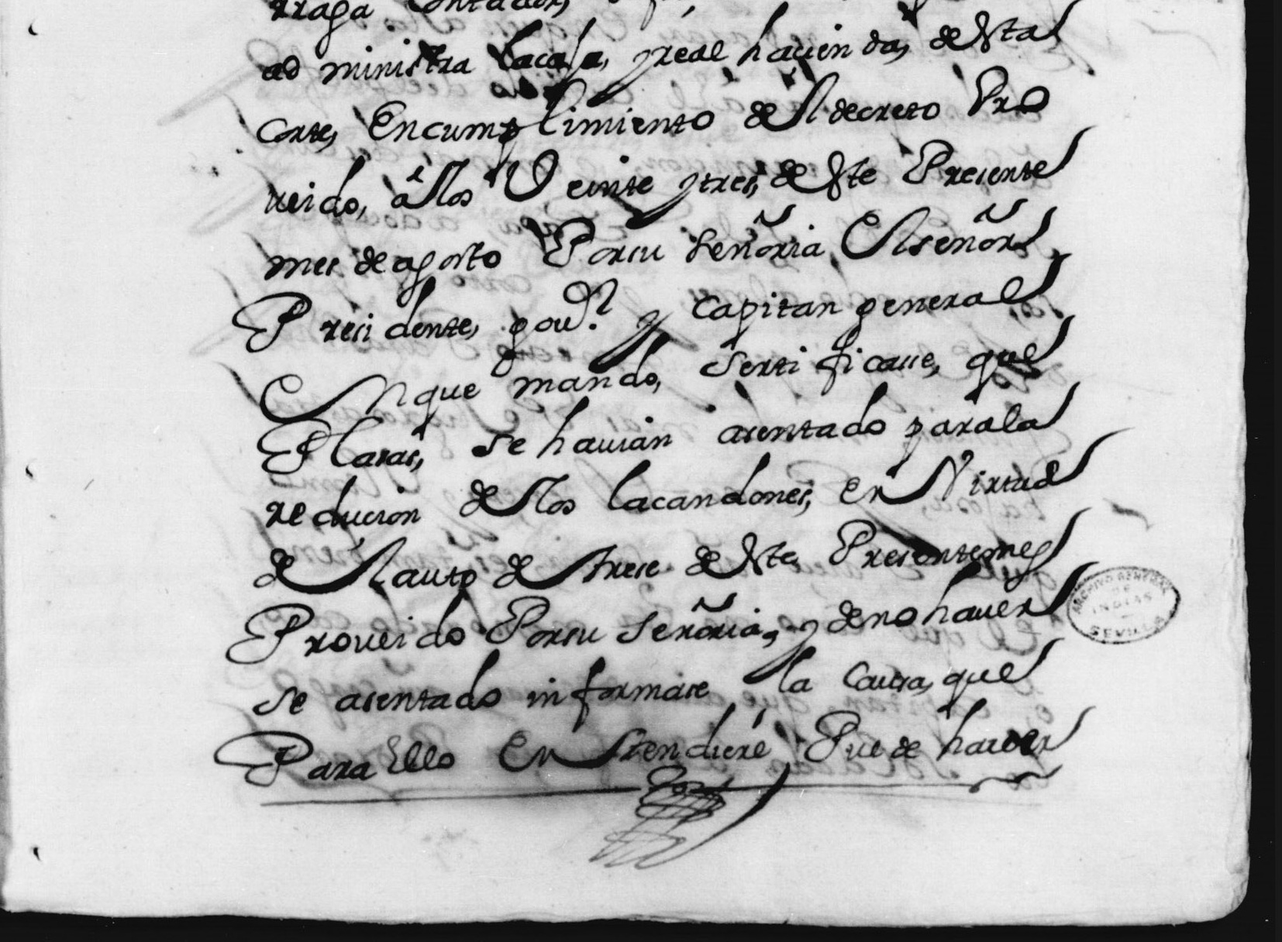lacandon: (608, 452, 812, 512)
